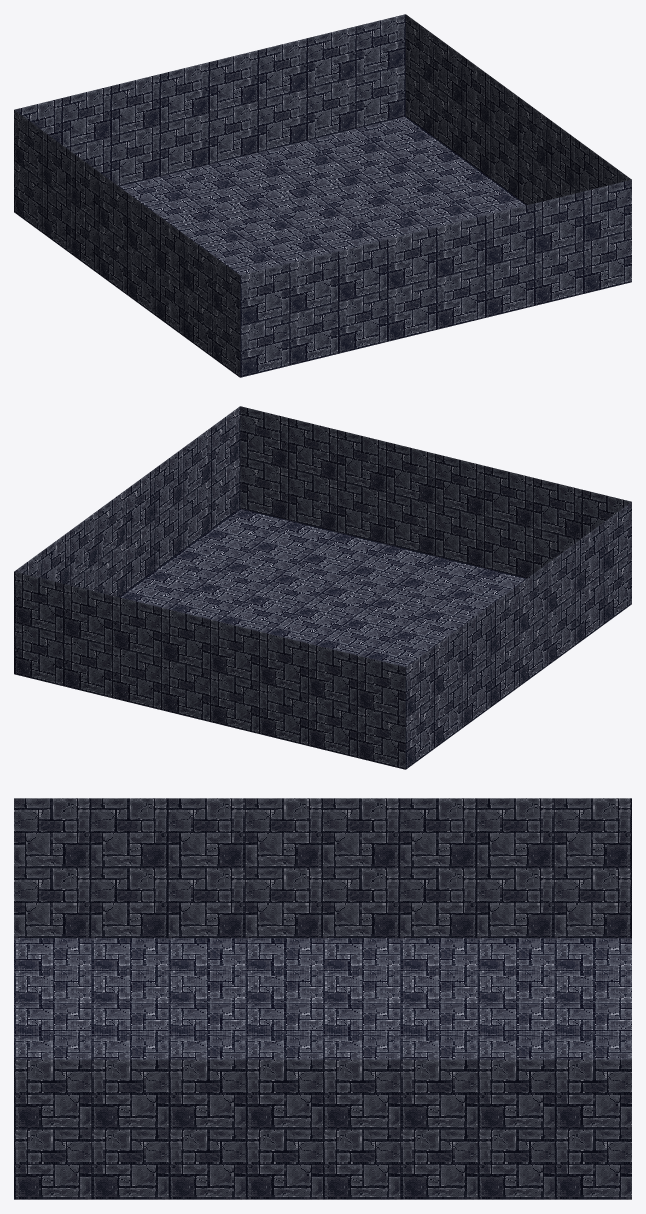
Rendered from level.obj.
3 renders of one model, top to bottom at view 1: azimuth 30°, elevation 25°; view 2: azimuth 150°, elevation 25°; view 3: azimuth 270°, elevation 25°, orthographic. The views are drawn at different scales.
Parts seen in each view (by area): view 1: Plane; view 2: Plane; view 3: Plane.
Boxes of the visible parts, x1,y1,x2,y2 form: Plane: (14,14,631,377); Plane: (14,406,631,769); Plane: (14,798,631,1199).
Size of the model in its own units: 2 by 0.5 by 2.
Materials: 1 (1 with a texture image).
